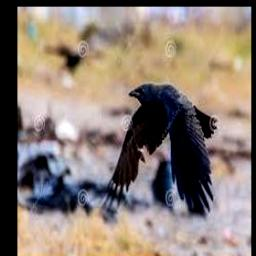Crow: (104, 82, 218, 218)
